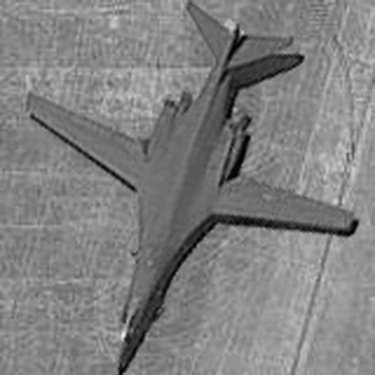airplane: (19, 1, 370, 373)
